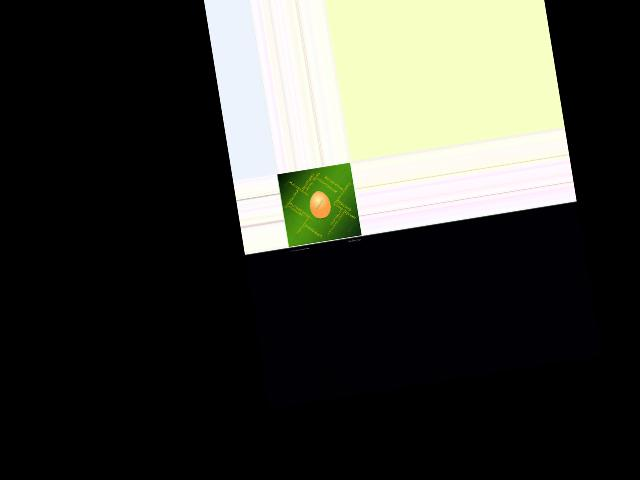egg: (307, 190, 331, 219)
